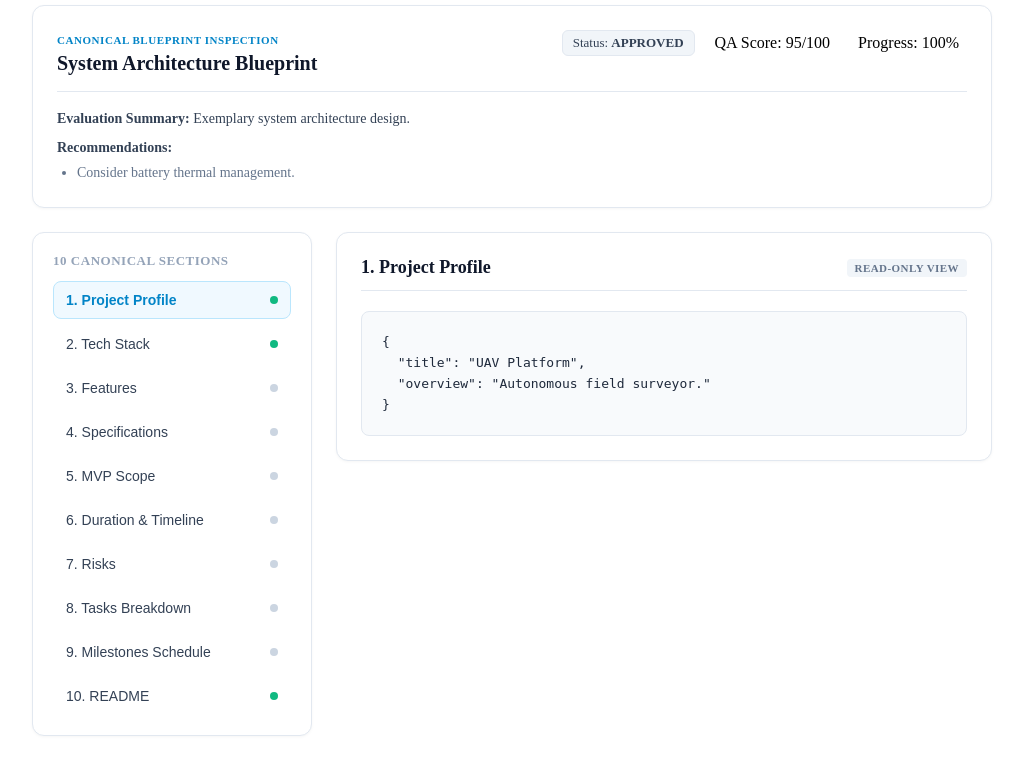
it: Phase 7 Batch 4: Mentor Project Instance Deep Inspection (M24–M30) › M24 — Instance Blueprint › switches between canonical sections
The image size is (1024, 768).
(page scrolled)
Expected: the button "1. Project Profile" is shown, [53,281,291,319]
Note: Click README section
Click the button "10. README" at [172, 696], box [53,677,291,715]
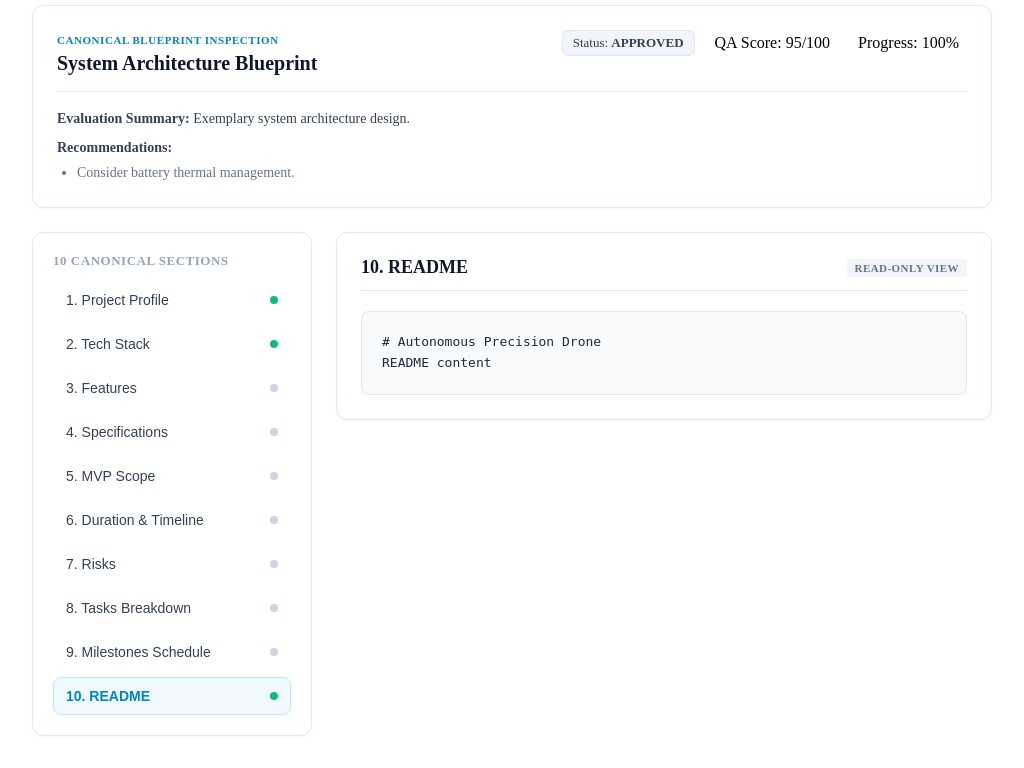
Now the text "# Autonomous Precision Drone README content" is shown, box [361,311,967,395]
